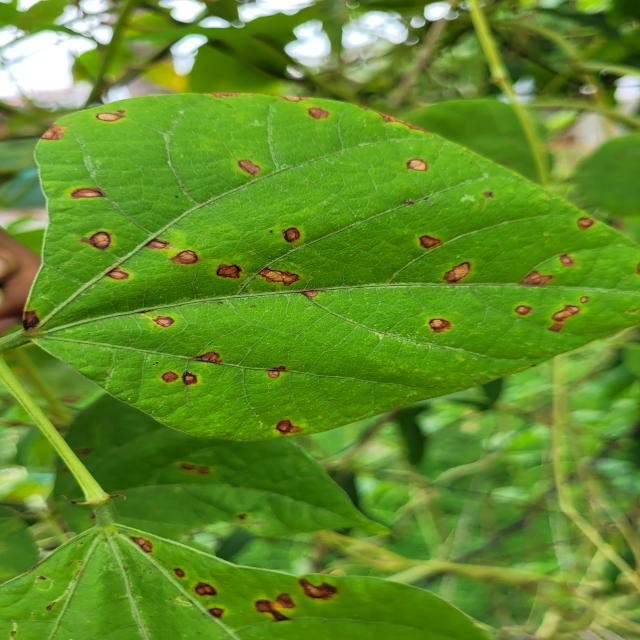Dolicos bean_cercospora leaf spot: (29, 96, 640, 440), (0, 527, 542, 639)
